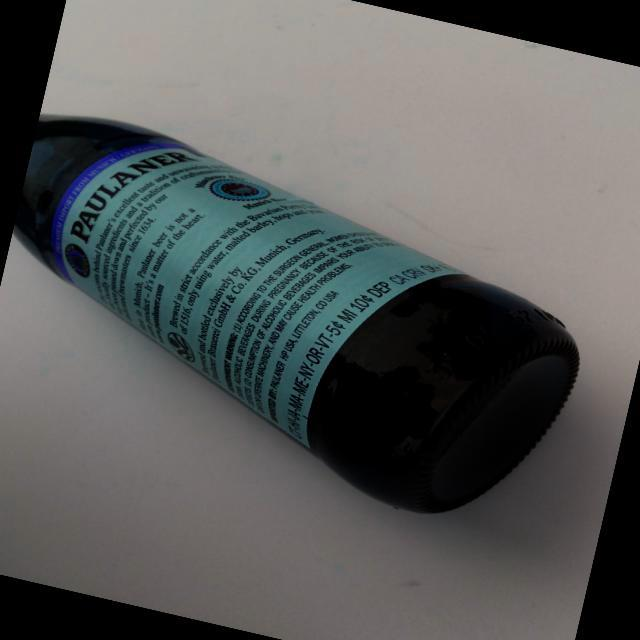glass: (0, 99, 614, 541)
